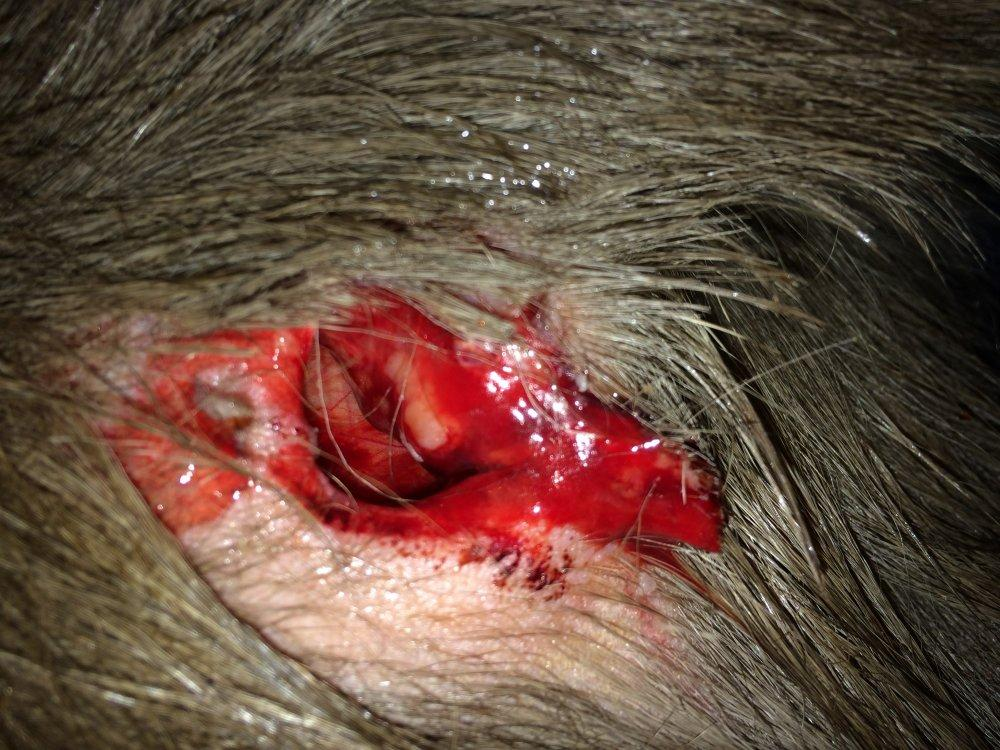bleeding: (236, 273, 623, 531)
